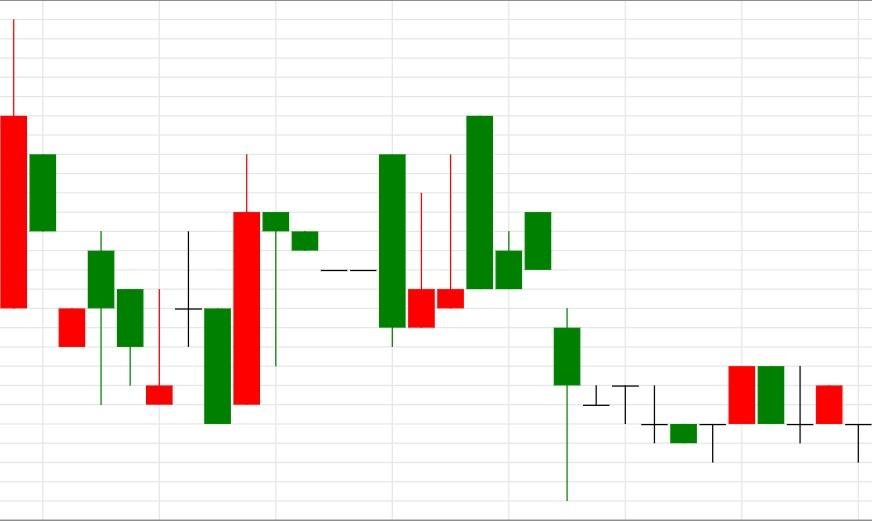hanging_man_fall: (204, 154, 290, 425)
inverse_hammer_rise: (88, 232, 174, 406)
